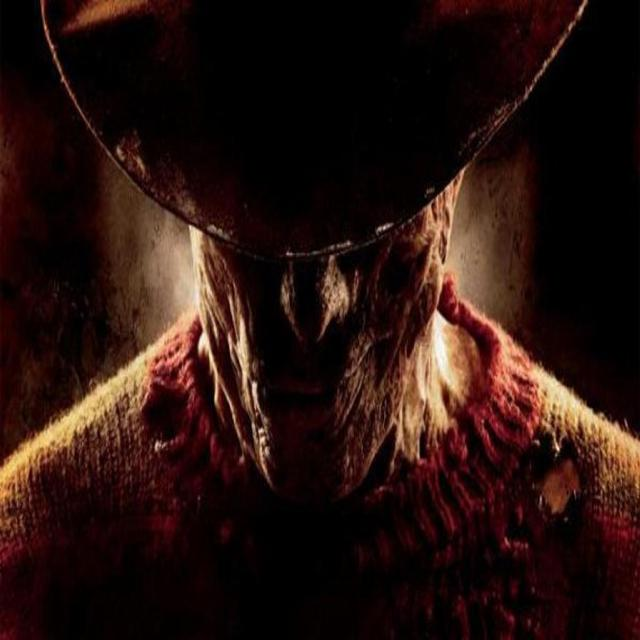nomask: (202, 29, 424, 503)
